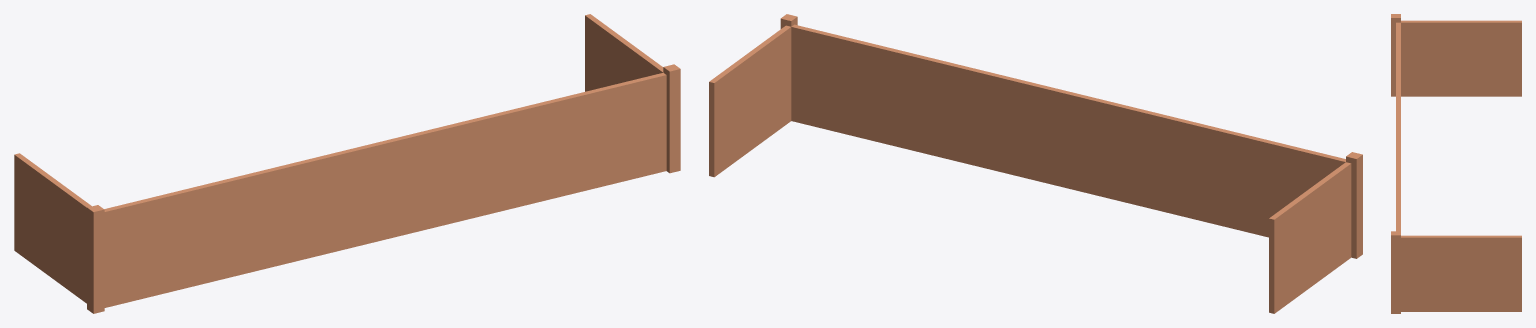
The model's file is fence_wide.fbx.
3 renders of one model, left to right at view 1: azimuth 30°, elevation 25°; view 2: azimuth 150°, elevation 25°; view 3: azimuth 270°, elevation 25°, orthographic. The views are drawn at different scales.
Parts seen in each view (by area): view 1: fence_wide; view 2: fence_wide; view 3: fence_wide.
Part boxes in pixels (x1,y1,x2,y2): fence_wide: (14,14,680,313); fence_wide: (709,14,1362,313); fence_wide: (1391,14,1521,313).
Size of the model in its own units: 16 by 2.65 by 4.
